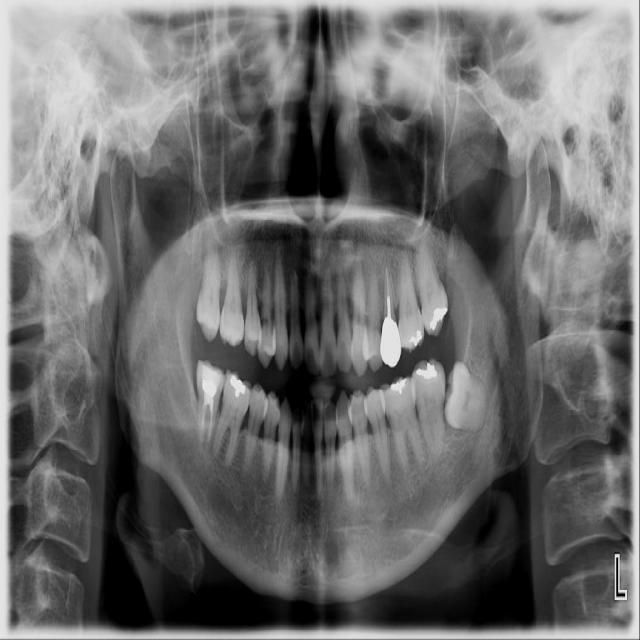Crown: (380, 316, 402, 368)
Filling: (196, 359, 226, 401), (429, 303, 451, 334), (227, 371, 248, 398), (414, 362, 441, 382), (402, 327, 425, 348), (387, 378, 411, 395)
Root Canal Treatment: (208, 408, 212, 439), (201, 405, 203, 433), (388, 282, 388, 294)
impacted tooth: (443, 357, 489, 433)
